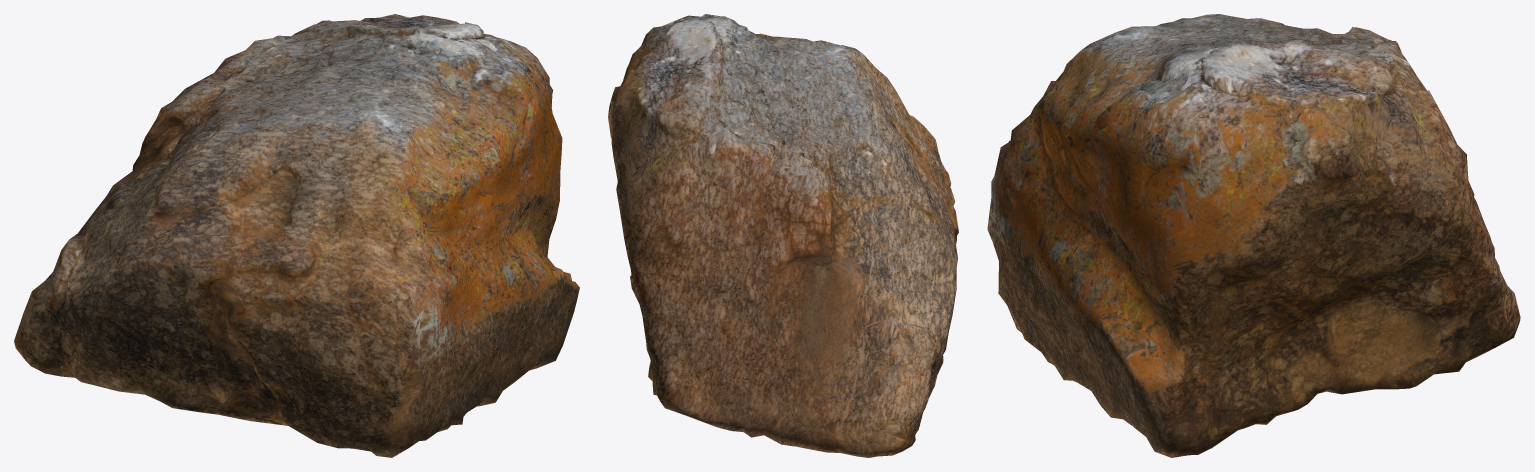
The model's file is nama_boulder_04.glb.
3 renders of one model, left to right at view 1: azimuth 30°, elevation 25°; view 2: azimuth 150°, elevation 25°; view 3: azimuth 270°, elevation 25°, orthographic. The views are drawn at different scales.
Visible parts, largest first — view 1: nama_boulder_04; view 2: nama_boulder_04; view 3: nama_boulder_04.
Part boxes in pixels (box(x1,y1,x2,y2)): nama_boulder_04: box(14, 14, 579, 457); nama_boulder_04: box(608, 14, 958, 457); nama_boulder_04: box(987, 14, 1520, 457).
Size of the model in its own units: 2.52 by 1.91 by 2.5.
Materials: 1 (1 with a texture image).
